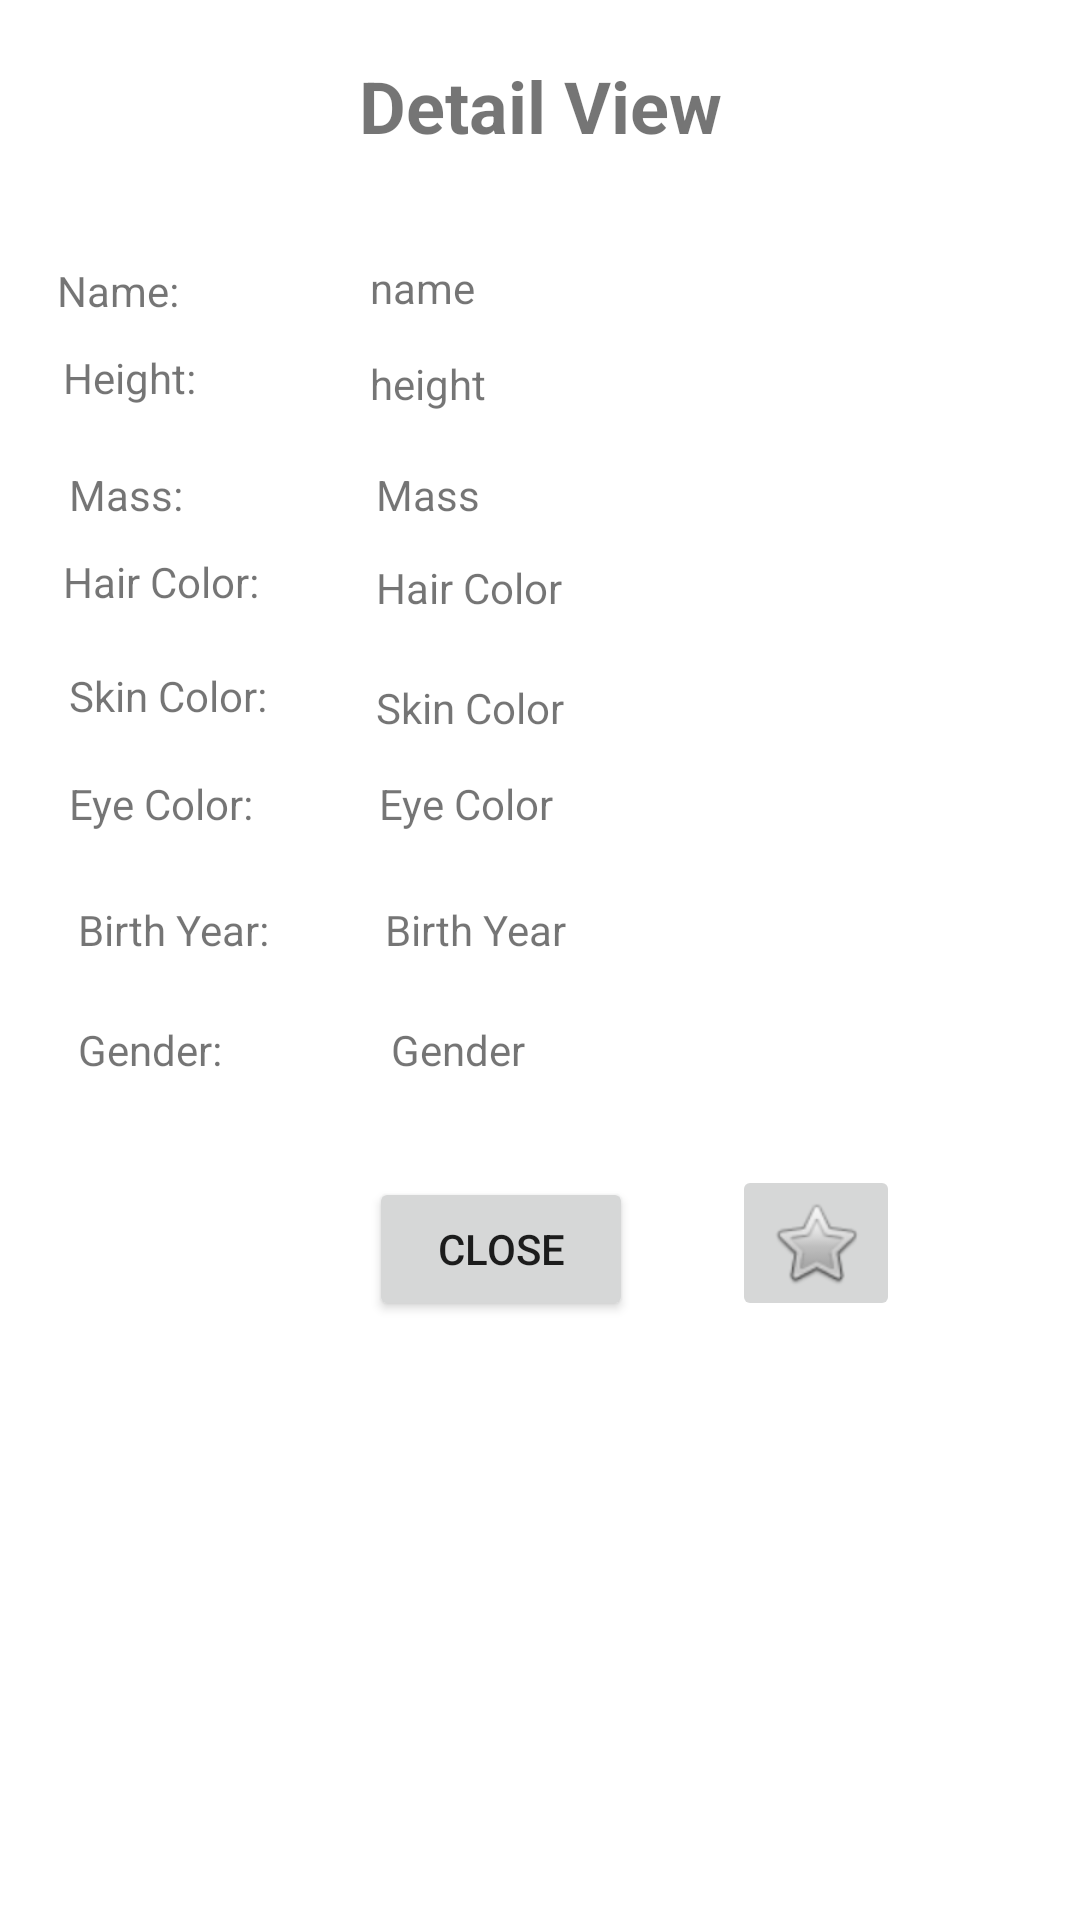

Named icons in this screenshot (1080×1920) and their centers, point (x, y):
Favorite: point (816, 1243)
